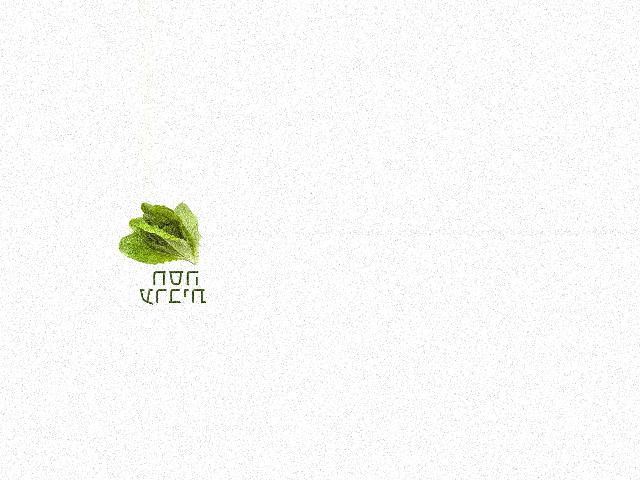lettuce: (118, 202, 205, 272)
